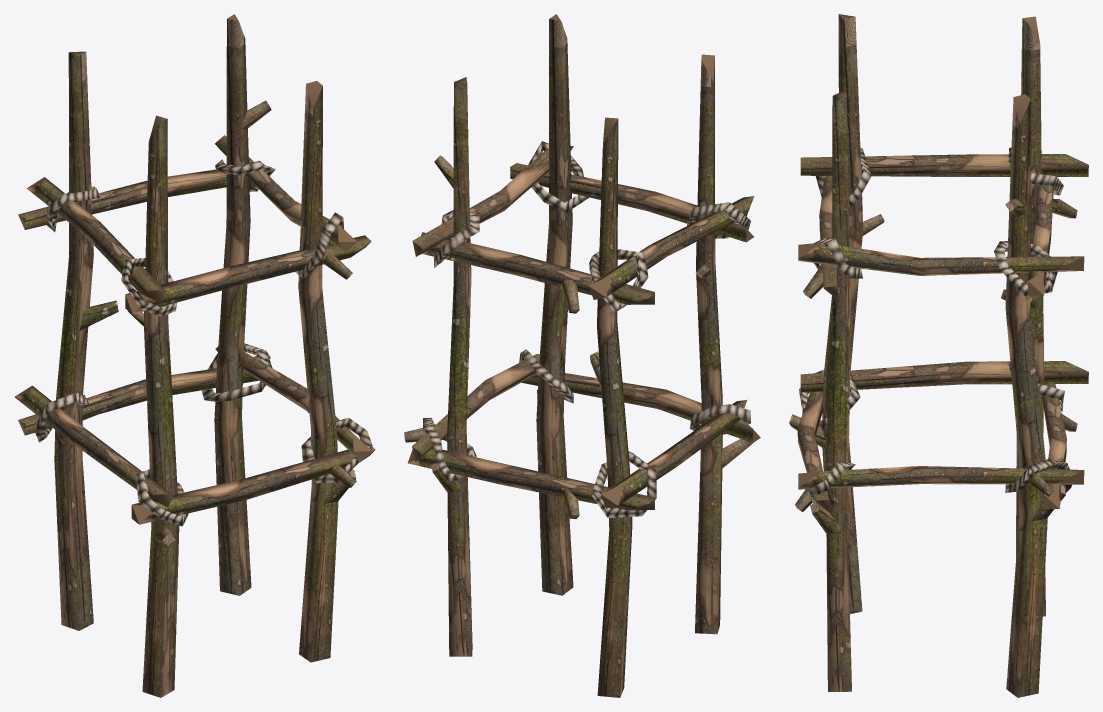
File: trellis09.fbx
3 renders of one model, left to right at view 1: azimuth 30°, elevation 25°; view 2: azimuth 150°, elevation 25°; view 3: azimuth 270°, elevation 25°, orthographic. The views are drawn at different scales.
Parts seen in each view (by area): view 1: trellis09; view 2: trellis09; view 3: trellis09.
Part boxes in pixels (x1,y1,x2,y2): trellis09: (14, 14, 375, 697); trellis09: (404, 14, 760, 697); trellis09: (789, 14, 1088, 697).
Bounding box in the file's own units: 80.45 × 177 × 80.94.
